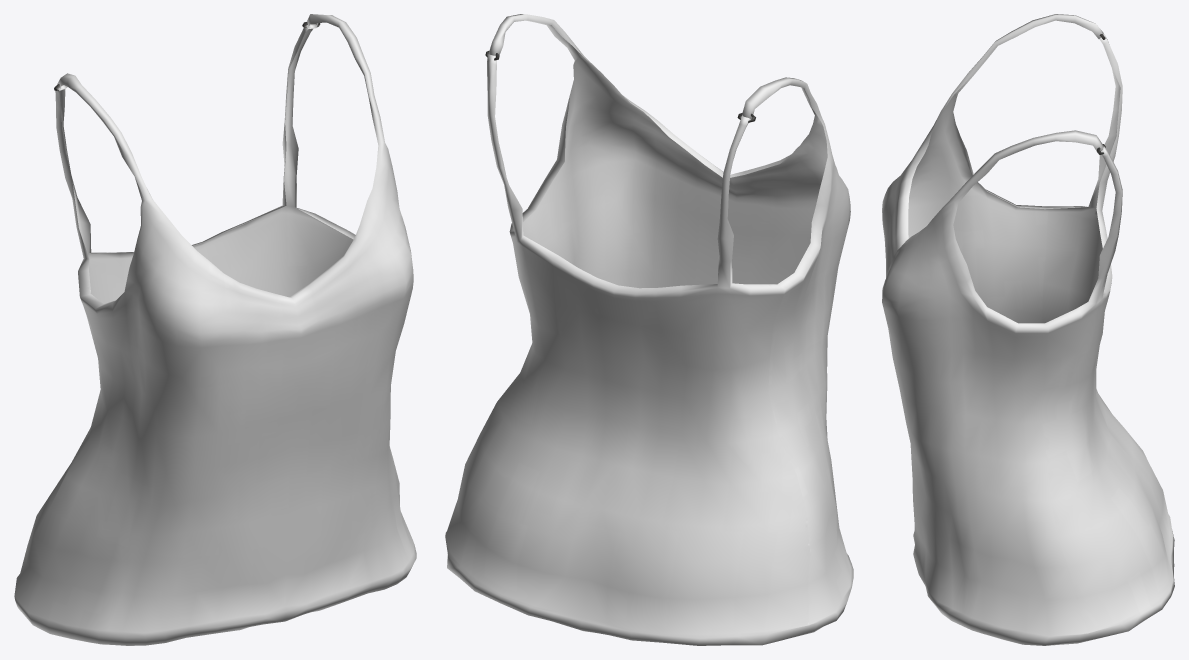
Rendered from punkduck-v-neck-top.glb.
3 renders of one model, left to right at view 1: azimuth 30°, elevation 25°; view 2: azimuth 150°, elevation 25°; view 3: azimuth 270°, elevation 25°, orthographic. The views are drawn at different scales.
Parts seen in each view (by area): view 1: Human.punkduck_v_neck_top; view 2: Human.punkduck_v_neck_top; view 3: Human.punkduck_v_neck_top.
Boxes of the visible parts, <box> form: Human.punkduck_v_neck_top: <box>14,14,416,645</box>; Human.punkduck_v_neck_top: <box>445,14,853,645</box>; Human.punkduck_v_neck_top: <box>882,14,1174,645</box>.
Bounding box in the file's own units: 0.3801 × 0.5197 × 0.2784.
Materials: 1 (1 with a texture image).
